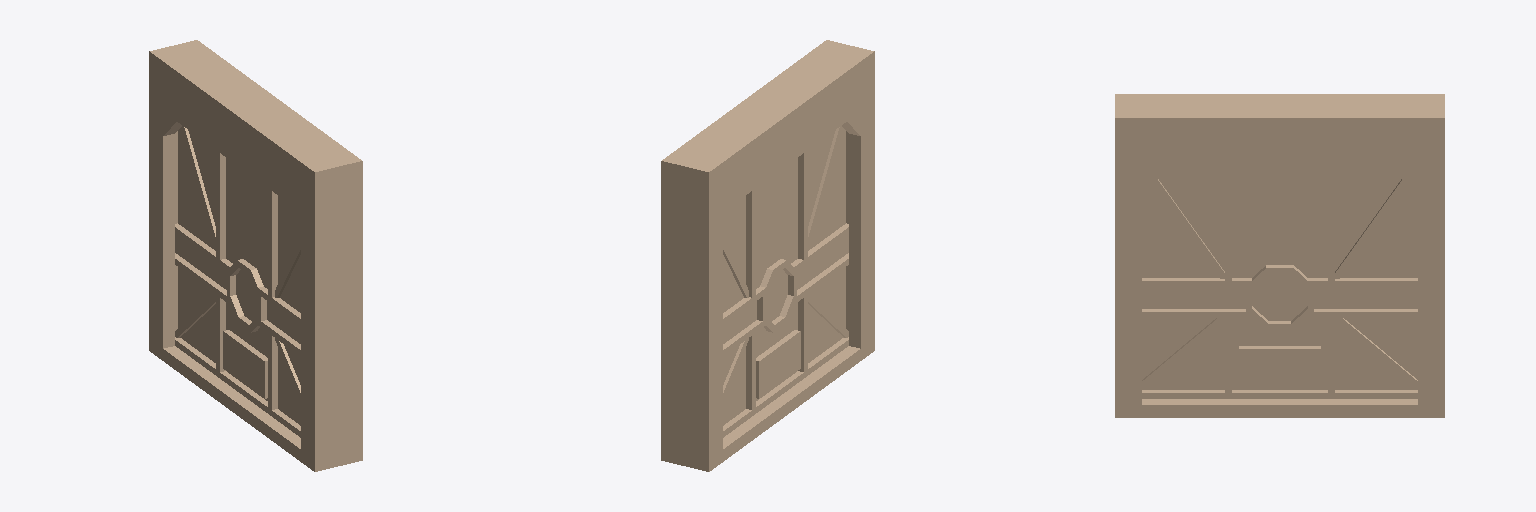
File: qe_containment_door.obj
3 views of the same model, side by side, from view 1: azimuth 30°, elevation 25°; view 2: azimuth 150°, elevation 25°; view 3: azimuth 270°, elevation 25° (orthographic).
Parts seen in each view (by area): view 1: frame, door; view 2: frame, door; view 3: door, frame.
Boxes of the visible parts, x1=… form: frame: x1=149, y1=40, x2=362, y2=471; door: x1=175, y1=126, x2=300, y2=437; frame: x1=661, y1=40, x2=874, y2=471; door: x1=723, y1=126, x2=848, y2=437; door: x1=1142, y1=168, x2=1417, y2=398; frame: x1=1115, y1=94, x2=1444, y2=417.
Size of the model in its own units: 0.5 by 3 by 3.